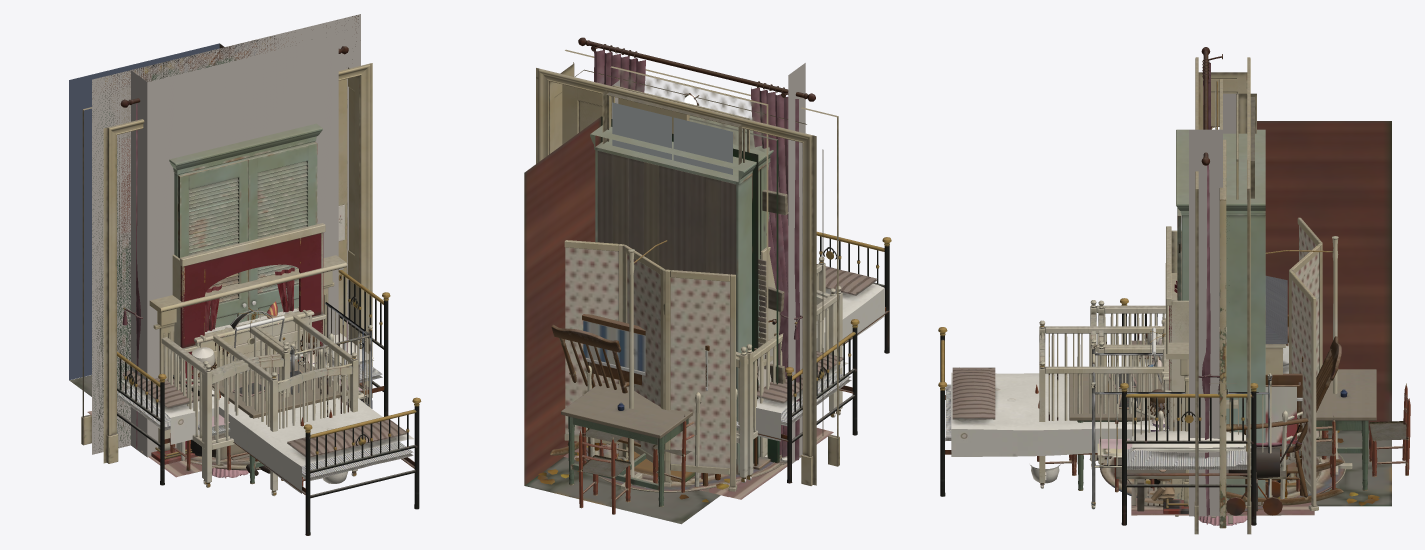
Rendered from wood.glb.
3 views of the same model, side by side, from view 1: azimuth 30°, elevation 25°; view 2: azimuth 150°, elevation 25°; view 3: azimuth 270°, elevation 25° (orthographic). The views are drawn at different scales.
Visible parts, largest first — view 1: Mod_fireplace_wood, Door_frame_wood, Solid_iron_bed, Band_puppet_theatre, Door_closed_wood, Exit_wood_p1, Ward_leafR_wood, Isl_twin_cribs_p0, Ward_leafL_wood, Isl_bed_screen, Mod_wallhole_lath_B_wood, Exit_wood_p0 (+15 smaller); view 2: Isl_bed_screen, Exit_wood_p0, Ward_body_wood, Door_frame_wood, Win_sash_curtain, Solid_nursery_table, Win_sash_glass, Solid_iron_bed, Mod_fireplace_wood, Isl_crib_rocker, Isl_washstand, Isl_twin_cribs_p0 (+9 smaller); view 3: Exit_wood_p0, Isl_bed_screen, Solid_iron_bed, Ward_body_wood, Mod_fireplace_wood, Solid_nursery_table, Isl_dollhouse, Door_frame_wood, Isl_twin_cribs_p0, Solid_crib_v0, Isl_crib_rocker, Door_leaf_wood (+10 smaller).
Part boxes in pixels (bbox=[...]): Mod_fireplace_wood: bbox=[92, 23, 360, 464]; Door_frame_wood: bbox=[81, 63, 372, 463]; Solid_iron_bed: bbox=[212, 363, 421, 535]; Band_puppet_theatre: bbox=[172, 223, 326, 450]; Door_closed_wood: bbox=[92, 14, 360, 454]; Exit_wood_p1: bbox=[69, 43, 219, 380]; Ward_leafR_wood: bbox=[247, 141, 317, 320]; Isl_twin_cribs_p0: bbox=[161, 302, 372, 487]; Ward_leafL_wood: bbox=[178, 158, 248, 327]; Isl_bed_screen: bbox=[117, 270, 390, 485]; Mod_wallhole_lath_B_wood: bbox=[92, 14, 360, 454]; Exit_wood_p0: bbox=[69, 15, 358, 452]; Isl_bed_screen: bbox=[564, 240, 859, 491]; Exit_wood_p0: bbox=[524, 93, 779, 524]; Ward_body_wood: bbox=[590, 115, 773, 474]; Door_frame_wood: bbox=[536, 49, 839, 485]; Win_sash_curtain: bbox=[578, 37, 815, 460]; Solid_nursery_table: bbox=[561, 382, 703, 514]; Win_sash_glass: bbox=[612, 102, 732, 174]; Solid_iron_bed: bbox=[816, 231, 891, 353]; Mod_fireplace_wood: bbox=[779, 63, 805, 463]; Isl_crib_rocker: bbox=[586, 288, 836, 492]; Isl_washstand: bbox=[565, 314, 776, 496]; Isl_twin_cribs_p0: bbox=[736, 286, 842, 480]; Exit_wood_p0: bbox=[1210, 121, 1391, 506]; Isl_bed_screen: bbox=[1120, 217, 1322, 525]; Solid_iron_bed: bbox=[938, 327, 1152, 496]; Ward_body_wood: bbox=[1176, 129, 1265, 499]; Mod_fireplace_wood: bbox=[1163, 129, 1222, 516]; Solid_nursery_table: bbox=[1035, 369, 1410, 492]; Isl_dollhouse: bbox=[1131, 275, 1314, 515]; Door_frame_wood: bbox=[1194, 57, 1251, 534]; Isl_twin_cribs_p0: bbox=[1090, 300, 1272, 509]; Solid_crib_v0: bbox=[1039, 320, 1168, 488]; Isl_crib_rocker: bbox=[1098, 300, 1345, 508]; Door_leaf_wood: bbox=[1217, 139, 1228, 528].
Size of the model in its own units: 2.25 by 3.35 by 3.32.
Materials: 43 (39 with a texture image).
